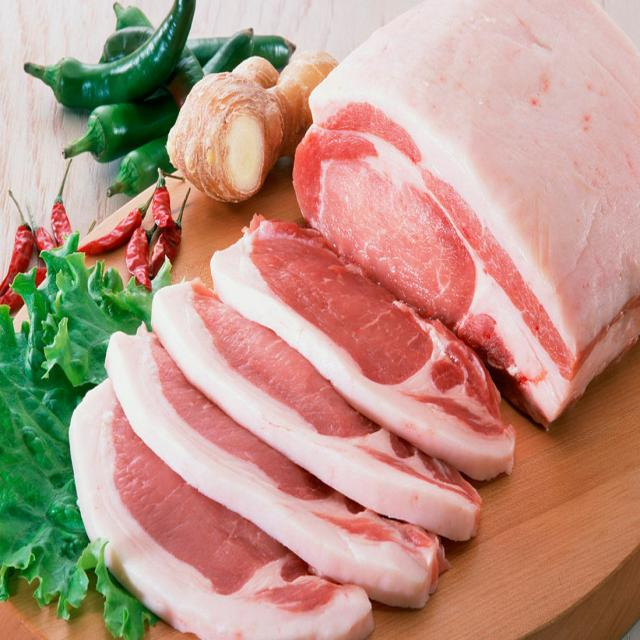carne de cerdo: (301, 66, 626, 435), (60, 368, 381, 636)
